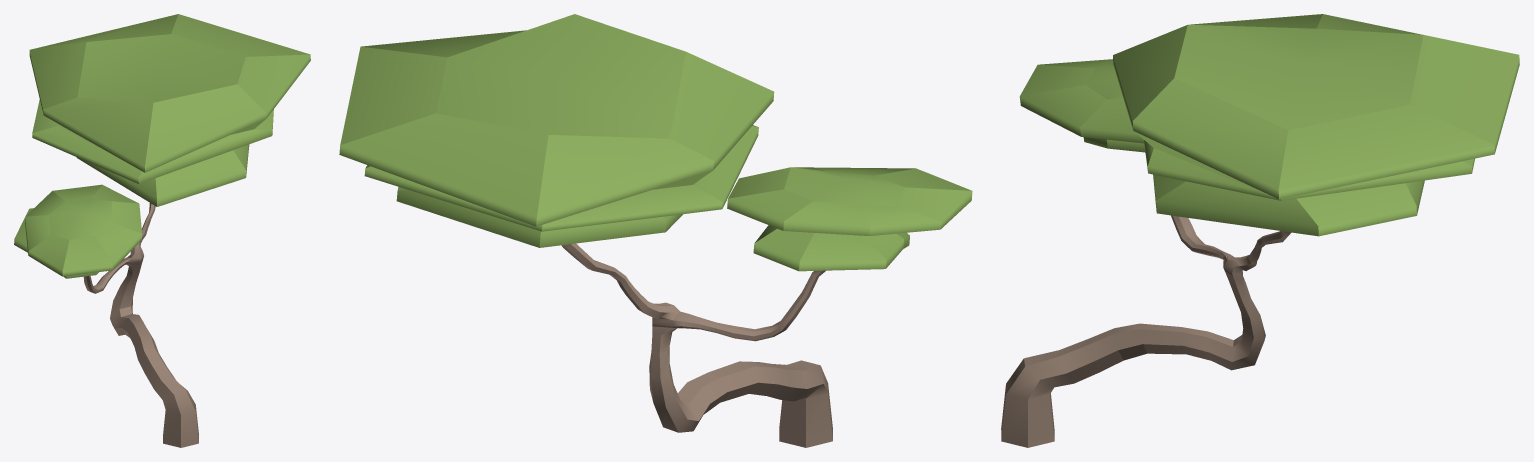
Rendered from TreeCoveB.fbx.
3 renders of one model, left to right at view 1: azimuth 30°, elevation 25°; view 2: azimuth 150°, elevation 25°; view 3: azimuth 270°, elevation 25°, orthographic. The views are drawn at different scales.
Parts seen in each view (by area): view 1: tree_cove_b; view 2: tree_cove_b; view 3: tree_cove_b.
Boxes of the visible parts, x1,y1,x2,y2 form: tree_cove_b: (14,14,310,447); tree_cove_b: (339,14,972,447); tree_cove_b: (1001,14,1519,447).
Size of the model in its own units: 814 by 677 by 735.
